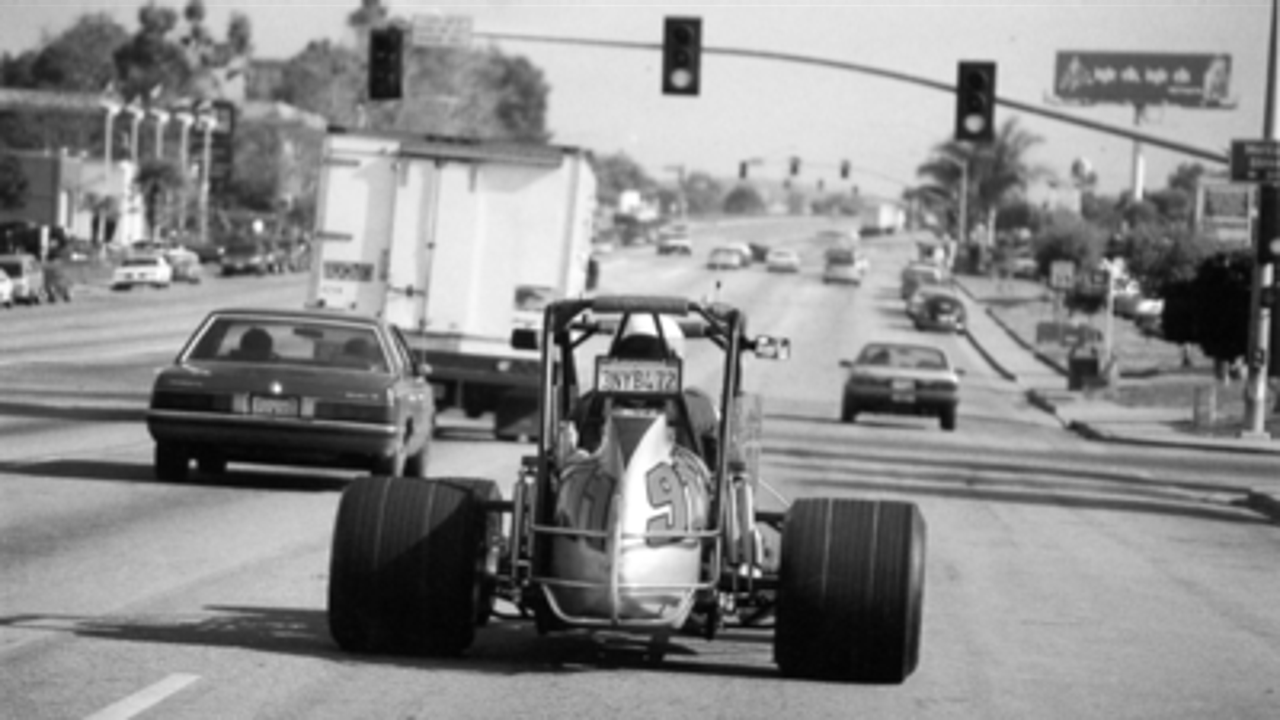license: (590, 351, 685, 401), (246, 390, 304, 421)
